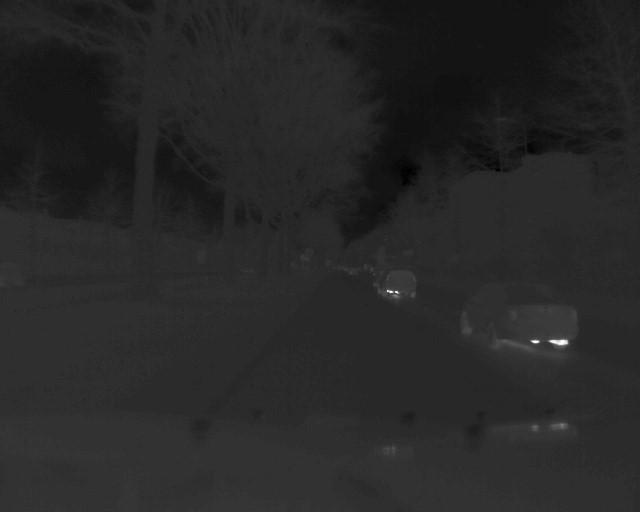car: (457, 279, 578, 359), (378, 266, 421, 305)
